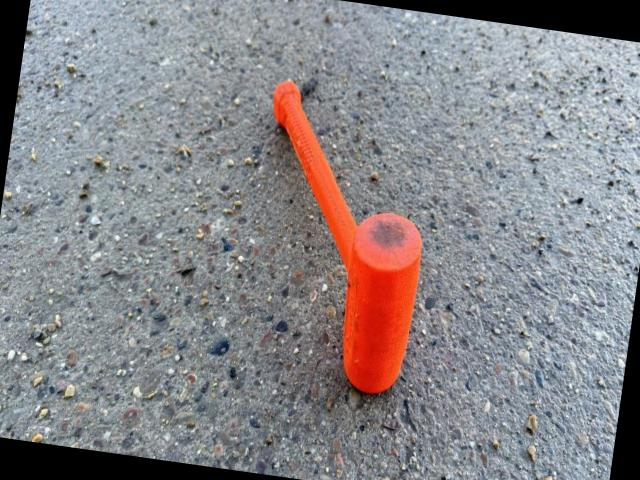hammer: (236, 78, 444, 398)
